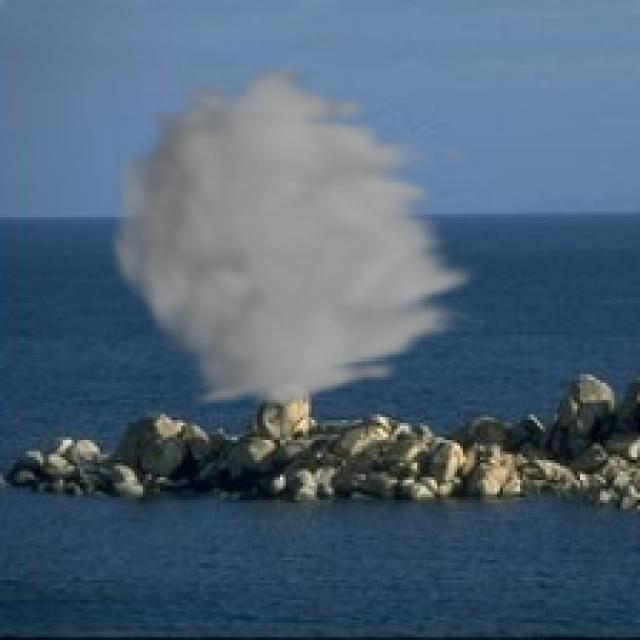smoke: (103, 60, 488, 411)
